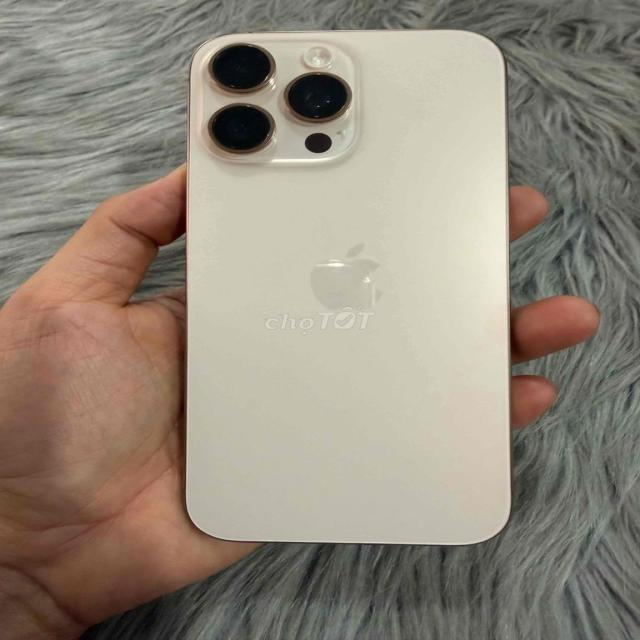gen_16: (185, 30, 511, 544)
